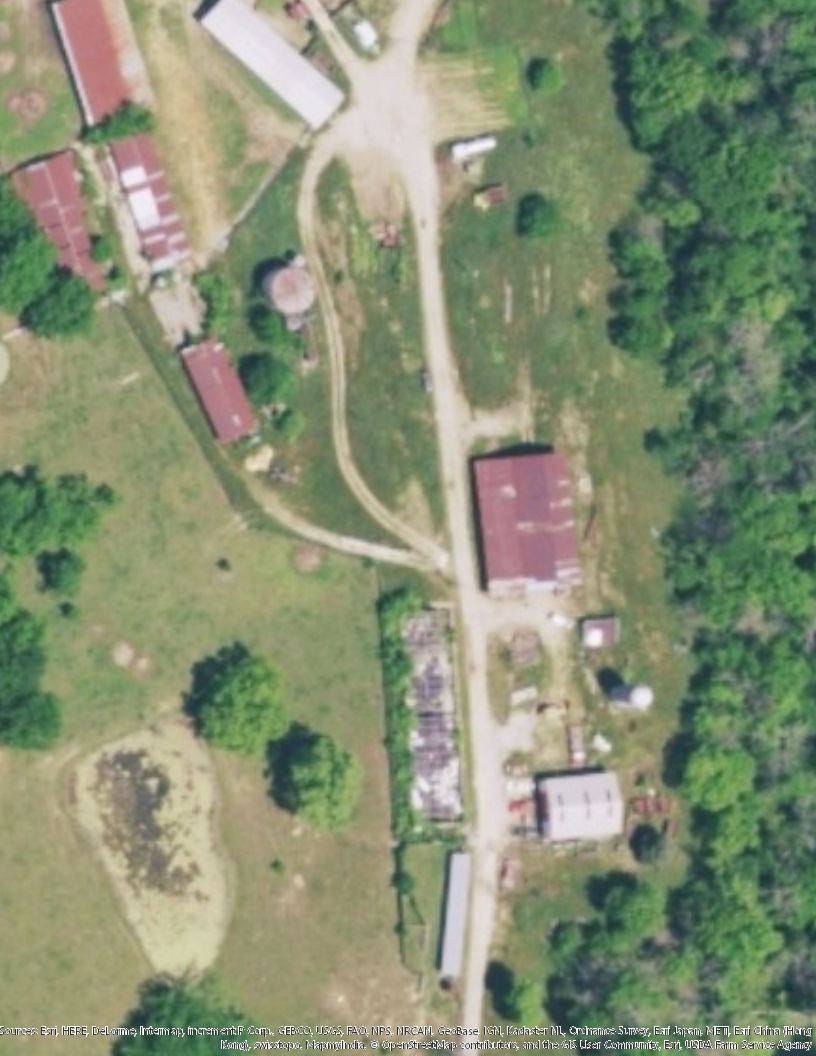cafo: (197, 1, 349, 132), (468, 450, 588, 601), (8, 148, 108, 298), (48, 1, 156, 131), (111, 130, 193, 270), (181, 336, 261, 444)
